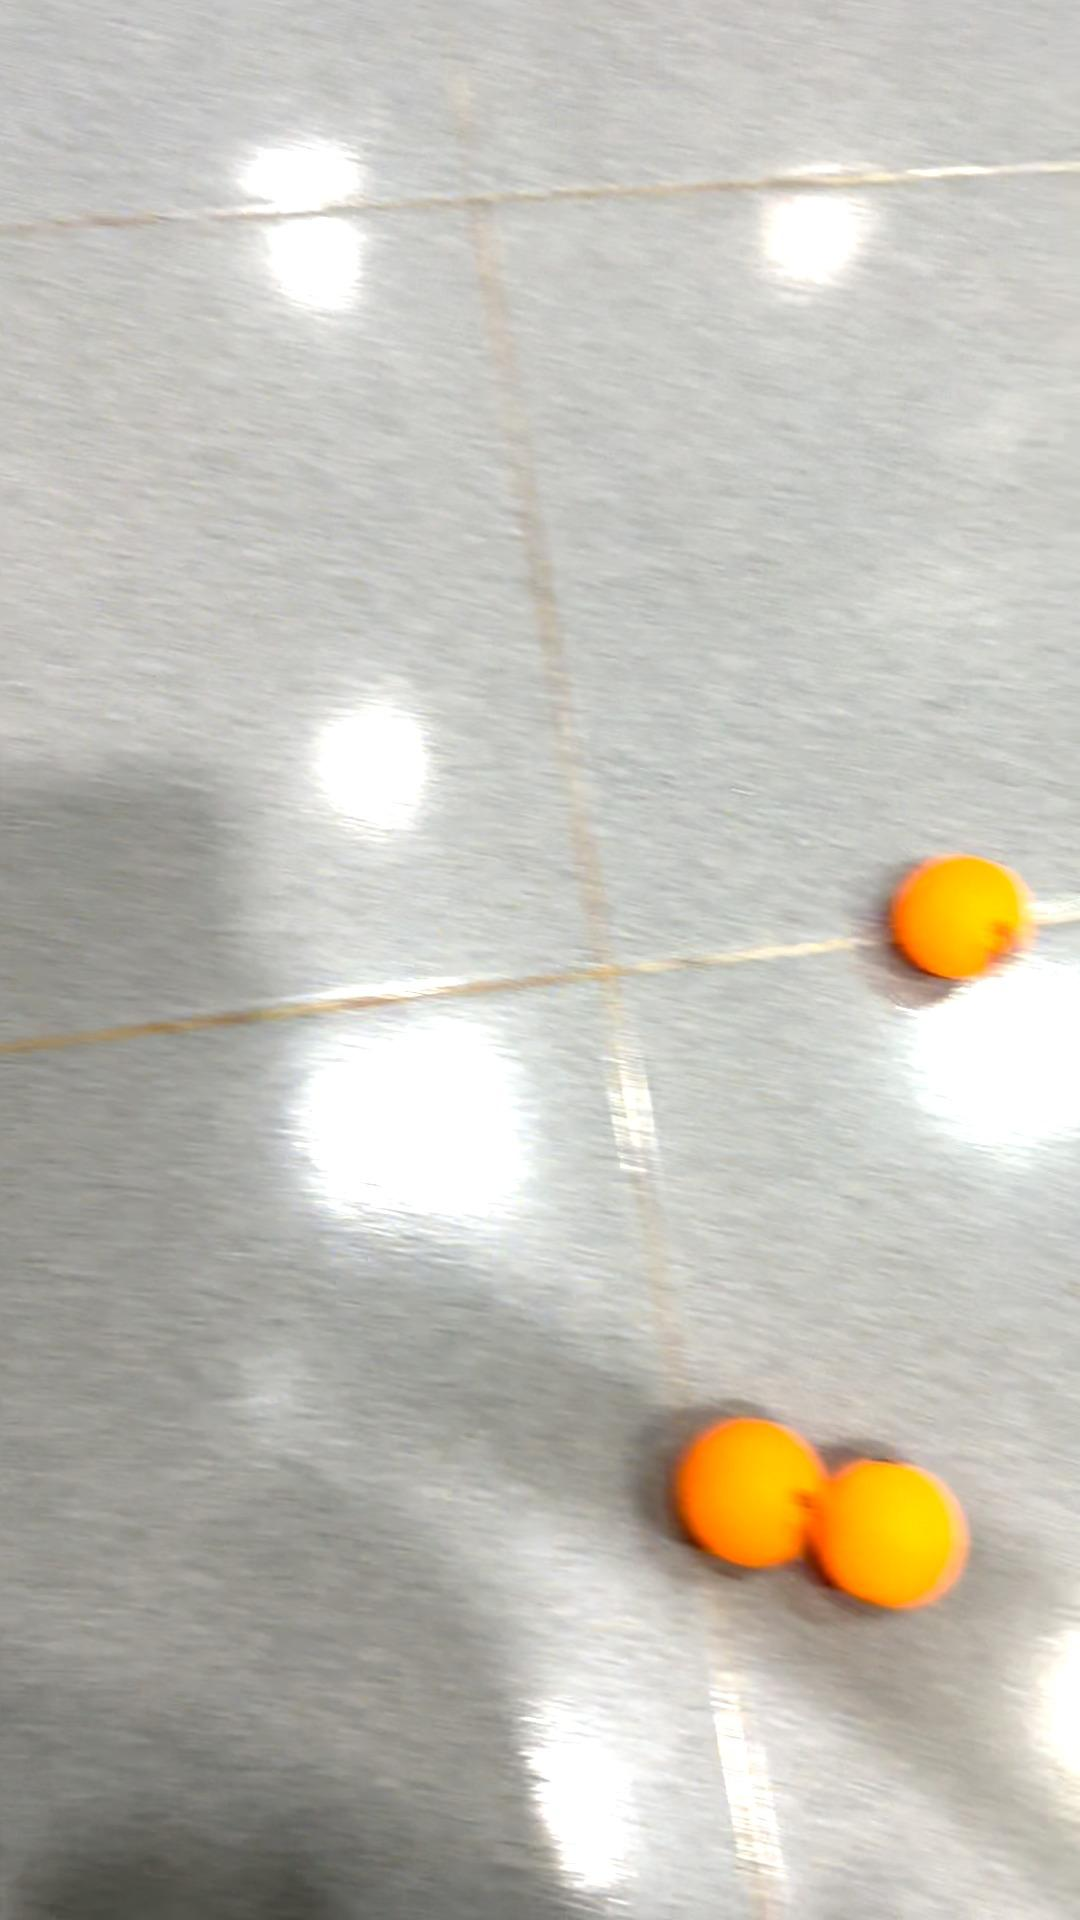oball: (804, 1451, 986, 1617), (665, 1411, 835, 1568), (881, 848, 1033, 981)
